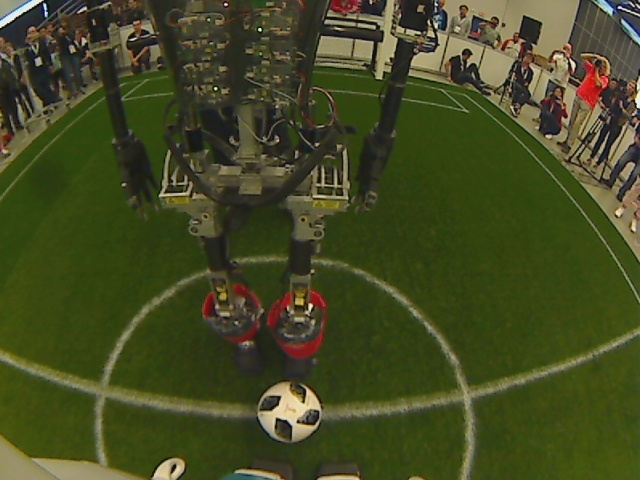ball: (253, 380, 324, 448)
goalpost: (315, 1, 392, 84)
robot: (83, 1, 433, 384)
